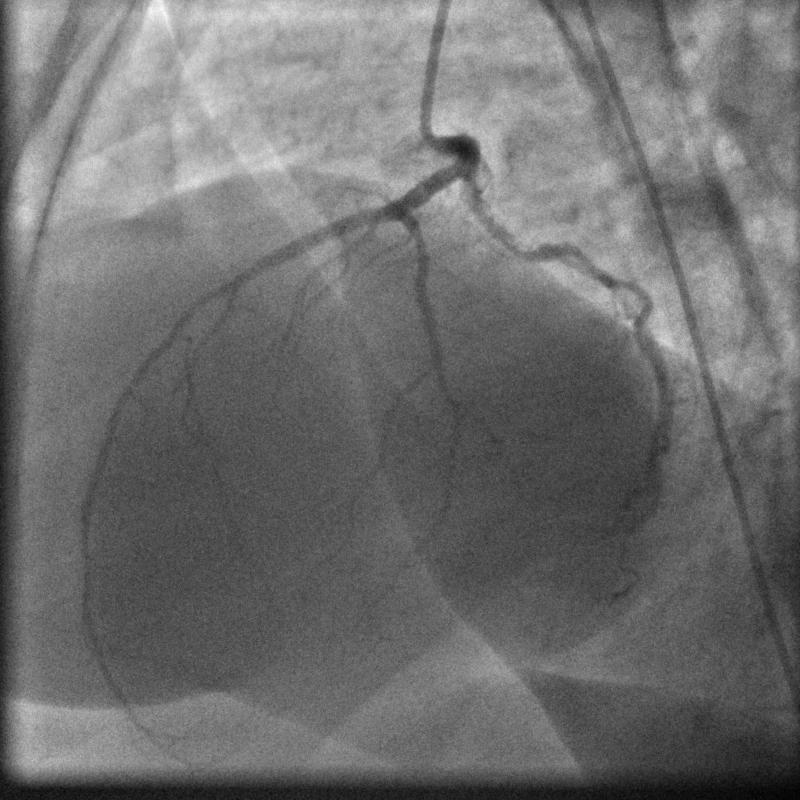Stenosis: (505, 228, 553, 271)
